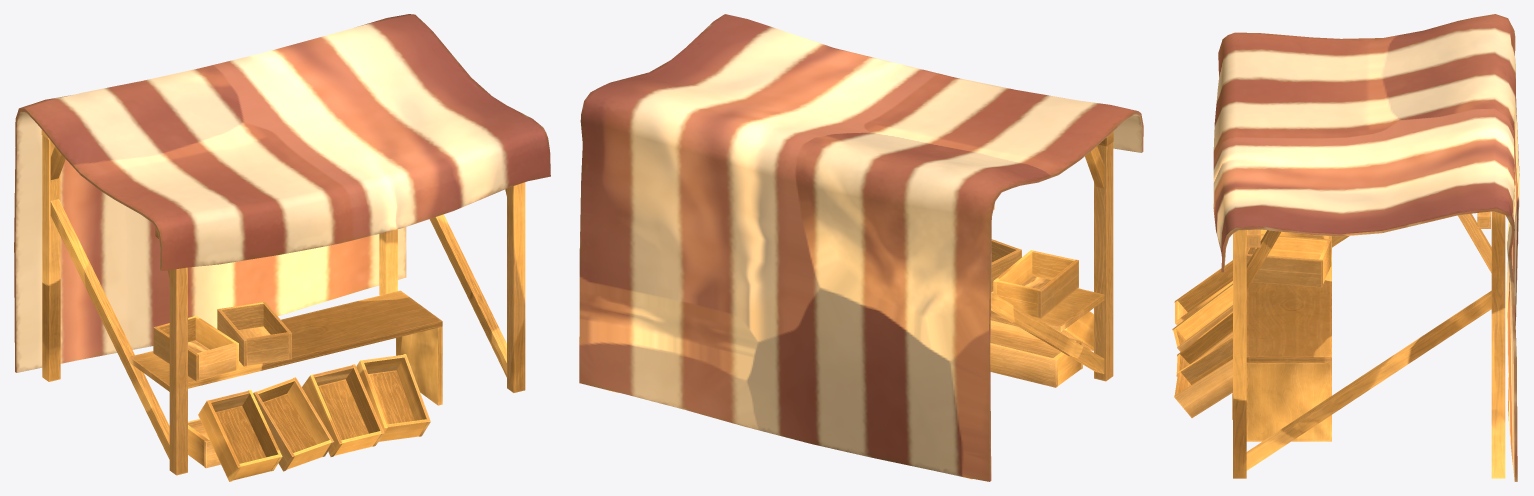
Rendered from SM_Stylized_Tent.fbx.
3 views of the same model, side by side, from view 1: azimuth 30°, elevation 25°; view 2: azimuth 150°, elevation 25°; view 3: azimuth 270°, elevation 25° (orthographic). The views are drawn at different scales.
Visible parts, largest first — view 1: SM_Stylized_Tent_LOD0; view 2: SM_Stylized_Tent_LOD0; view 3: SM_Stylized_Tent_LOD0.
Part boxes in pixels (left/top/right/bottom): SM_Stylized_Tent_LOD0: left=14, top=14, right=550, bottom=481; SM_Stylized_Tent_LOD0: left=579, top=14, right=1143, bottom=481; SM_Stylized_Tent_LOD0: left=1172, top=14, right=1519, bottom=481.
Bounding box in the file's own units: 372 × 282 × 256.
